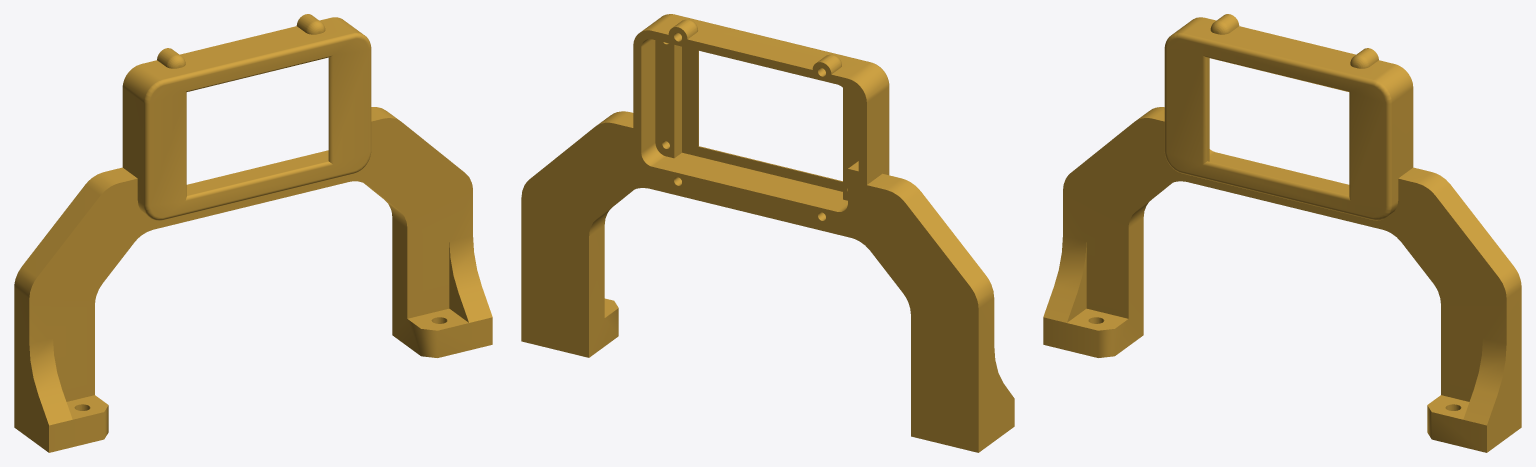
The picture shows the model from 3 angles, left to right: view 1: azimuth 30°, elevation 25°; view 2: azimuth 150°, elevation 25°; view 3: azimuth 330°, elevation 25°; orthographic projection. The views are drawn at different scales.
Parts seen in each view (by area): view 1: Geode; view 2: Geode; view 3: Geode.
Boxes of the visible parts, bbox=[...] form: Geode: bbox=[14, 14, 492, 452]; Geode: bbox=[521, 14, 1014, 452]; Geode: bbox=[1043, 14, 1521, 452].
Bounding box in the file's own units: 169 × 124 × 23.
